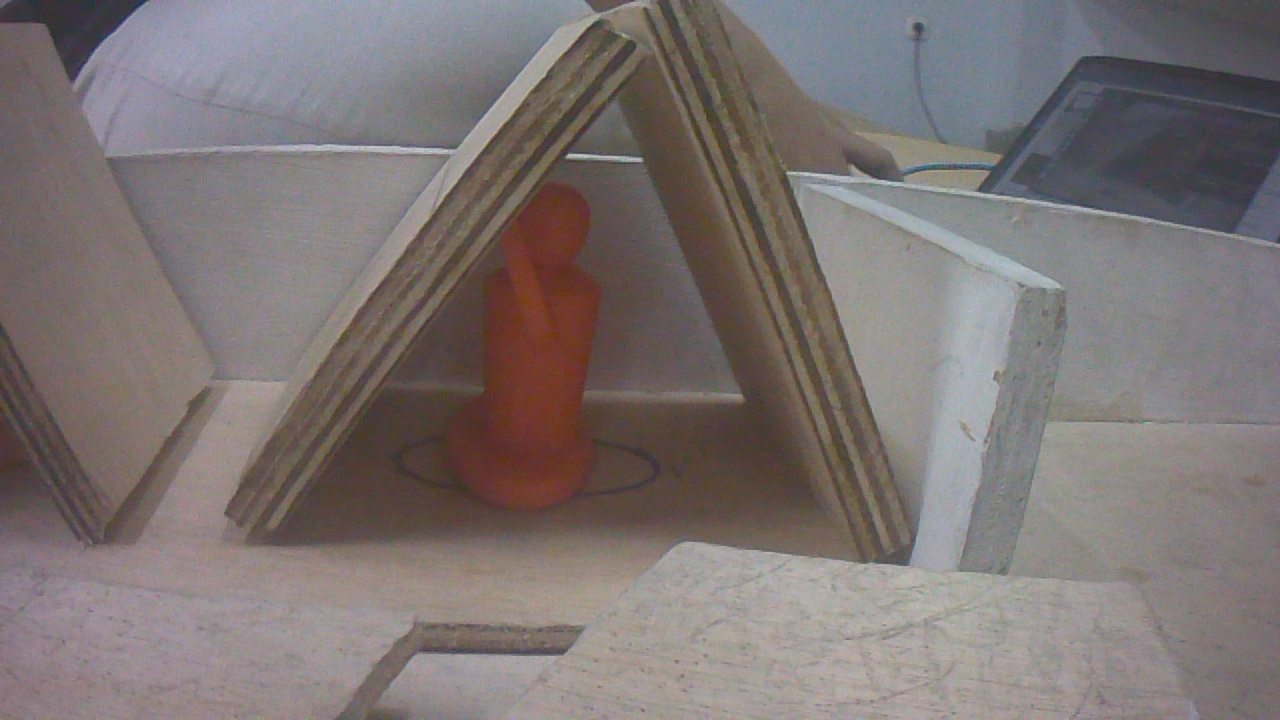real: (452, 173, 610, 516)
